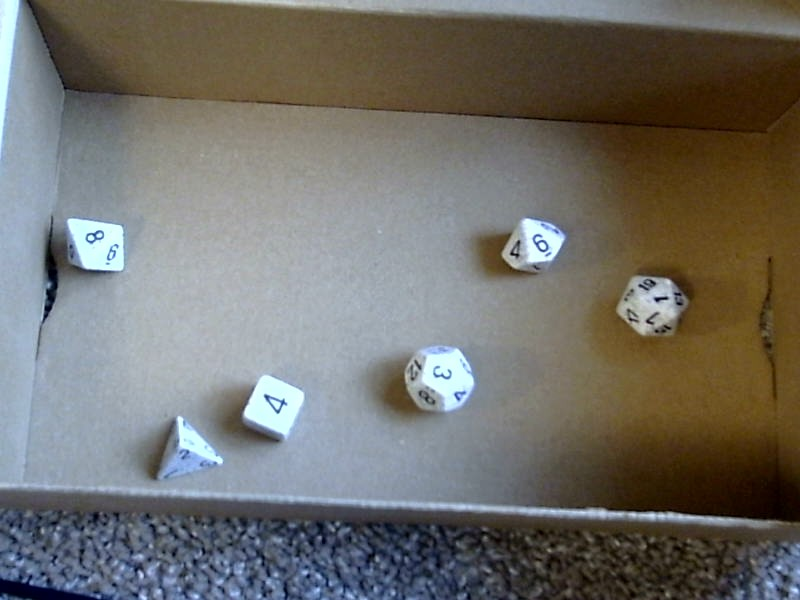d10 6: (495, 213, 568, 277)
d12 3: (396, 340, 484, 419)
d20 1: (611, 268, 694, 341)
d4 2: (143, 415, 222, 485)
d6 4: (234, 369, 313, 448)
d8 8: (56, 212, 132, 279)
